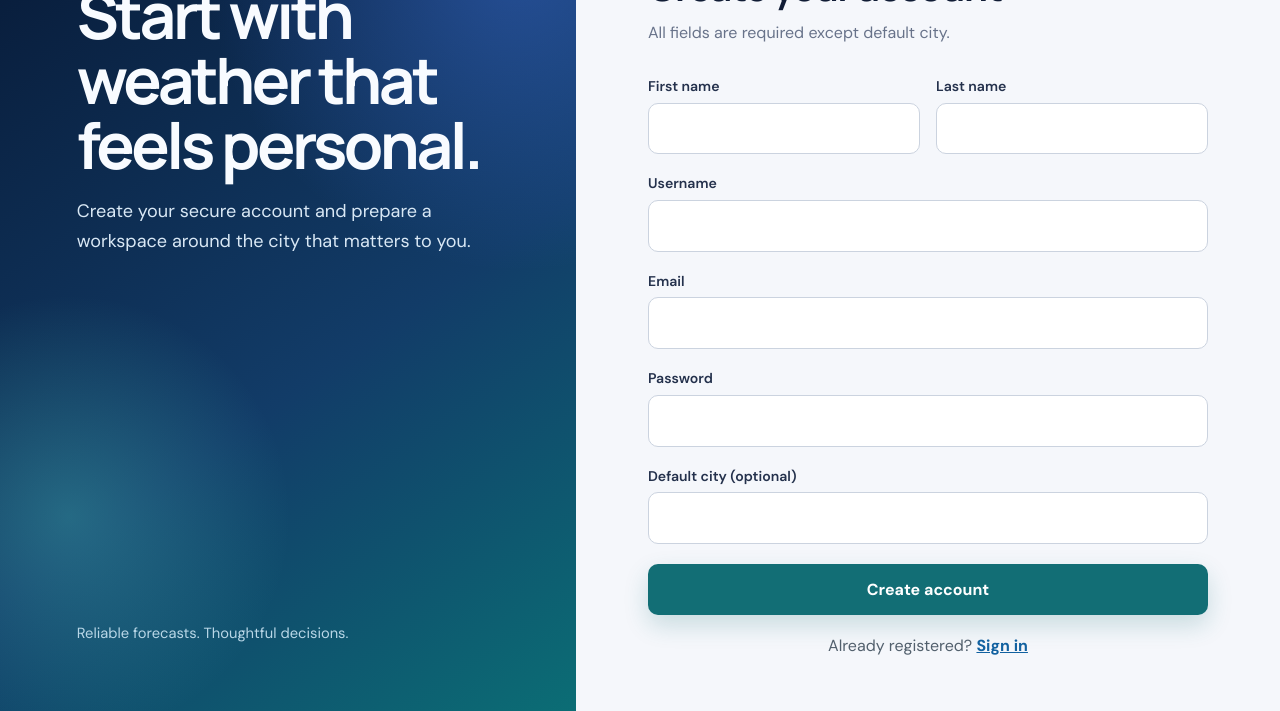
registration flow › shows field-specific required validation and prevents submission
The width and height of the screenshot is (1280, 711).
(page scrolled)
Click the button "Create account" at x=928, y=589, box [648,564,1208,615]
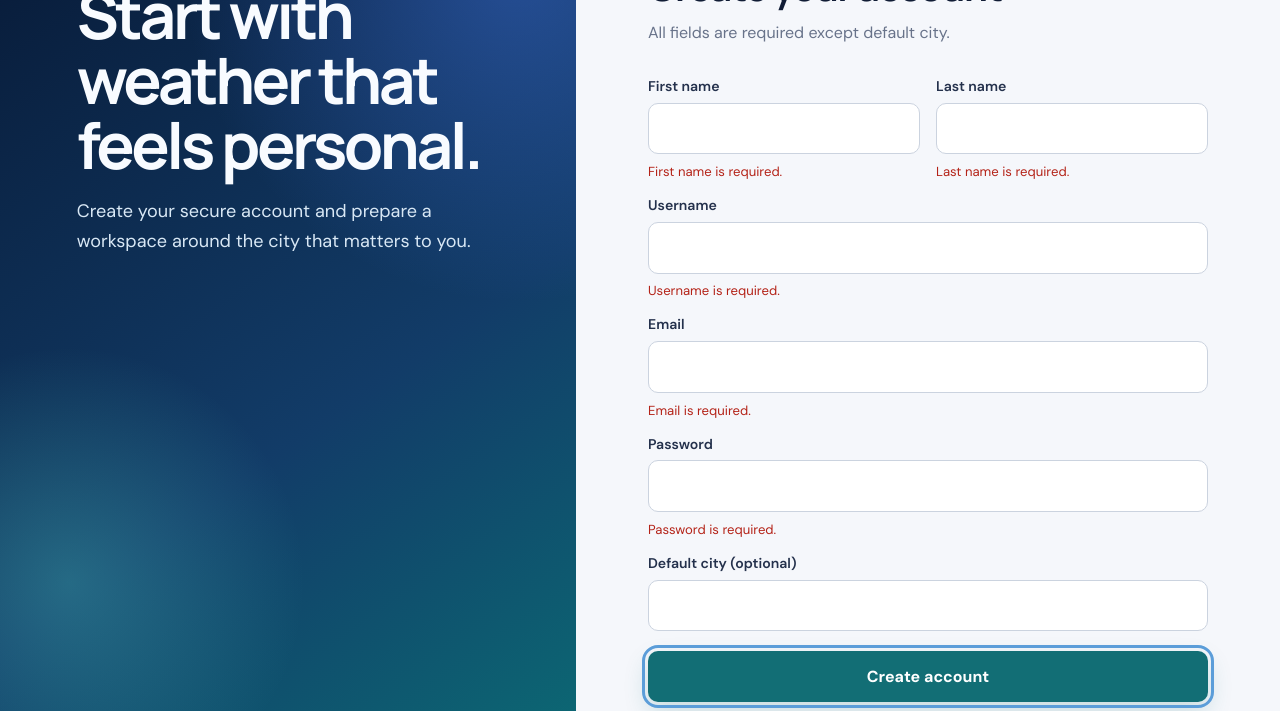
Expected: the text "First name is required." is shown, [648,163,782,180]
Expected: the text "Last name is required." is shown, [936,163,1069,180]
Expected: the text "Username is required." is shown, [648,282,780,299]
